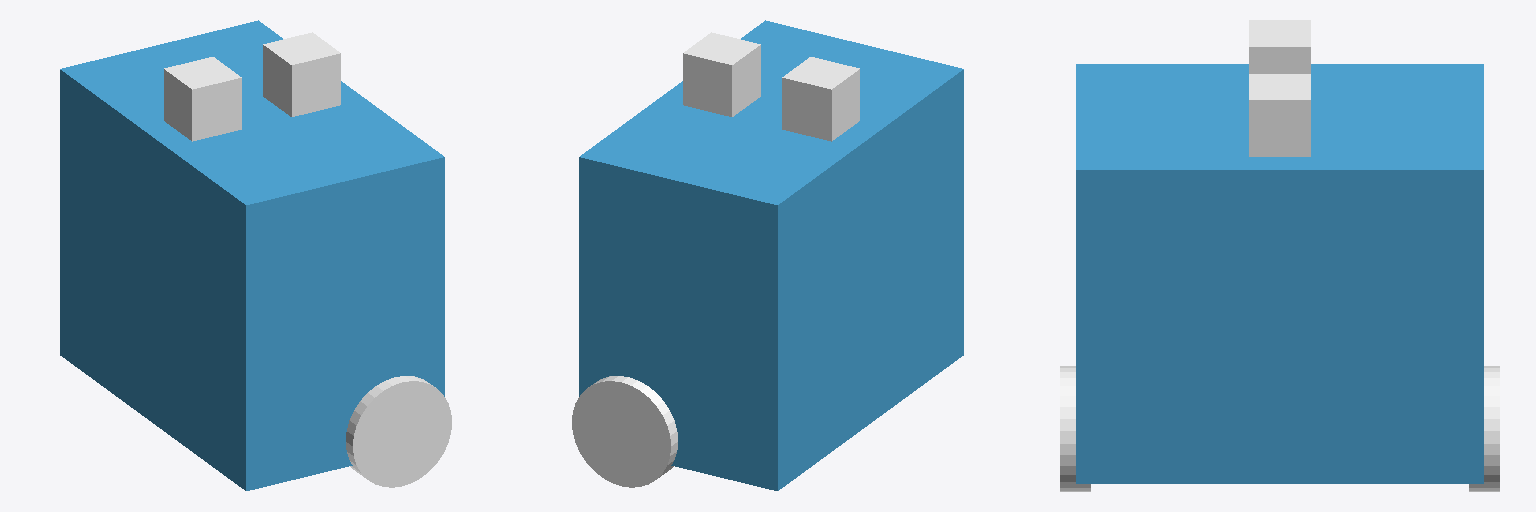
URDF robot description (chicken):
<?xml version="1.0"?>
<robot name="chicken">

  <material name="white">
    <color rgba="1 1 1 1"/>
  </material>
  
  <link name="base_footprint"/>
  <joint name="base_joint" type="fixed">
    <origin xyz="0 0 0" rpy="0 0 0"/>
    <parent link="base_footprint"/>
    <child link="base_link"/>
  </joint>

  <link name="base_link">
    <visual>
      <geometry>
        <box size="0.400 0.6500 0.550"/>
      </geometry>
    </visual>

    <collision>
      <geometry>
        <box size="0.400 0.6500 0.550"/>
      </geometry>
    </collision>

    <inertial>
      <origin xyz="0 0 0"/>
      <mass value="0.500"/>
      <inertia ixx="0.0020833333" ixy="0" ixz="0" iyy="0.0070833333" iyz="0" izz="0.0083333333"/>
    </inertial>
  </link>

  <link name="left_wheel_link">
    <visual>
      <geometry>
        <cylinder radius="0.1" length="0.05"/>
      </geometry>
      <origin xyz="0 0 0" rpy="0 0 0"/>
      <material name="white"/>
    </visual>

    <collision>
      <geometry>
        <cylinder radius="0.1" length="0.05"/>
      </geometry>
    </collision>

    <inertial>
      <origin xyz="0 0 0"/>
      <mass value="0.500"/>
      <inertia ixx="0.0013541667" ixy="0" ixz="0" iyy="0.0013541667" iyz="0" izz="0.0025"/>
    </inertial>

  </link>

  <joint name="left_wheel_joint" type="continuous">
    <parent link="base_link"/>
    <child link="left_wheel_link"/>
    <origin rpy="-1.5707 0 0" xyz="0.100 0.3250 -0.225"/>
    <axis xyz="0 0 1"/>
  </joint>

  <link name="right_wheel_link">
    <visual>
      <geometry>
        <cylinder radius="0.1" length="0.05"/>
      </geometry>
      <origin xyz="0 0 0" rpy="0 0 0"/>
      <material name="white"/>
    </visual>

    <collision>
      <geometry>
        <cylinder radius="0.1" length="0.05"/>
      </geometry>
    </collision>

    <inertial>
      <origin xyz="0 0 0"/>
      <mass value="0.500"/>
      <inertia ixx="0.0013541667" ixy="0" ixz="0" iyy="0.0013541667" iyz="0" izz="0.0025"/>
    </inertial>

  </link>

  <joint name="right_wheel_joint" type="continuous">
    <parent link="base_link"/>
    <child link="right_wheel_link"/>
    <origin rpy="1.5707 0 0" xyz="0.100 -0.3250 -0.225"/>
    <axis xyz="0 0 -1"/>
  </joint>

  <link name="caster_link">
    <visual>
      <geometry>
        <sphere radius="0.05"/>
      </geometry>
      <material name="green">
        <color rgba="0 1 0 1"/>
      </material>
    </visual>

    <collision>
      <geometry>
        <sphere radius="0.05"/>
      </geometry>
    </collision>

    <inertial>
      <origin xyz="0 0 0"/>
      <mass value="0.500"/>
      <inertia ixx="0.00025" ixy="0" ixz="0" iyy="0.00025" iyz="0" izz="0.00025"/>
    </inertial>

  </link>

  <joint name="caster_joint" type="fixed">
    <parent link="base_link"/>
    <child link="caster_link"/>
    <origin xyz="-0.150 0 -0.10"/>
  </joint>

  <!-- Hokuyo Laser -->
  <link name="hesai_lidar">
    <collision>
      <origin xyz="0 0 0" rpy="0 0 0"/>
      <geometry>
        <box size="0.1 0.1 0.1"/>
      </geometry>
    </collision>

    <visual>
      <origin xyz="0 0 0" rpy="0 0 0"/>
      <geometry>
        <box size="0.1 0.1 0.1"/>
      </geometry>
      <material name="">
        <color rgba="1.0 1.0 1.0 1.0"/>
      </material>
    </visual>

    <inertial>
      <mass value="1e-5" />
      <origin xyz="0 0 0" rpy="0 0 0"/>
      <inertia ixx="1e-6" ixy="0" ixz="0" iyy="1e-6" iyz="0" izz="1e-6" />
    </inertial>
  </link>
  <joint name="hesai_lidar_joint" type="fixed">
    <axis xyz="0 1 0" />
    <origin xyz="-0.1 0 0.325" rpy="0 0 3.1412"/> 
    <!-- rolla値 pi-->
    <parent link="base_link"/>
    <child link="hesai_lidar"/>
  </joint>

   <link name="camera_link">
    <collision>
      <origin xyz="0 0 0" rpy="0 0 0"/>
      <geometry>
        <box size="0.1 0.1 0.1"/>
      </geometry>
    </collision>

    <visual>
      <origin xyz="0 0 0" rpy="0 0 0"/>
      <geometry>
        <box size="0.1 0.1 0.1"/>
      </geometry>
      <material name="">
        <color rgba="1.0 1.0 1.0 1.0"/>
      </material>
    </visual>

    <inertial>
      <mass value="1e-5" />
      <origin xyz="0 0 0" rpy="0 0 0"/>
      <inertia ixx="1e-6" ixy="0" ixz="0" iyy="1e-6" iyz="0" izz="1e-6" />
    </inertial>
  </link>
  <joint name="camera_joint" type="fixed">
    <axis xyz="0 1 0" />
    <origin xyz="0.1 0 0.325" rpy="0 0 3.1412"/> 
    <!-- rolla値 pi-->
    <parent link="base_link"/>
    <child link="camera_link"/>
  </joint>

</robot>

--- Render facts (derived) ---
Views: 3 orthographic renders of the robot side by side, from view 1: azimuth 30°, elevation 25°; view 2: azimuth 150°, elevation 25°; view 3: azimuth 270°, elevation 25°.
Model chicken with 7 links and 6 joints (2 continuous, 4 fixed), rooted at base_footprint, posed all joints at 0.
Visible links, largest first — view 1: base_link, right_wheel_link, hesai_lidar, camera_link; view 2: base_link, left_wheel_link, hesai_lidar, camera_link; view 3: base_link, camera_link, hesai_lidar, left_wheel_link, right_wheel_link.
Boxes of the visible links, x1,y1,x2,y2 form: base_link: (60,20,444,490); right_wheel_link: (346,376,451,487); hesai_lidar: (164,57,241,141); camera_link: (263,32,340,116); base_link: (579,20,963,490); left_wheel_link: (572,376,677,487); hesai_lidar: (782,57,859,141); camera_link: (683,32,760,116); base_link: (1076,64,1483,483); camera_link: (1249,74,1310,156); hesai_lidar: (1249,20,1310,73); left_wheel_link: (1469,366,1499,491); right_wheel_link: (1060,366,1090,491).
Size in the robot's own frame: 0.4 by 0.7 by 0.7 metres.
Geometry: primitives only (box / cylinder / sphere), no mesh files.
